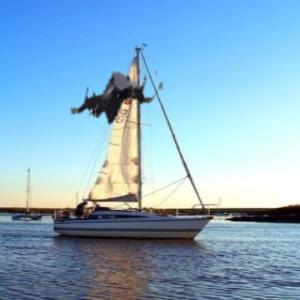drone: (65, 62, 160, 157)
